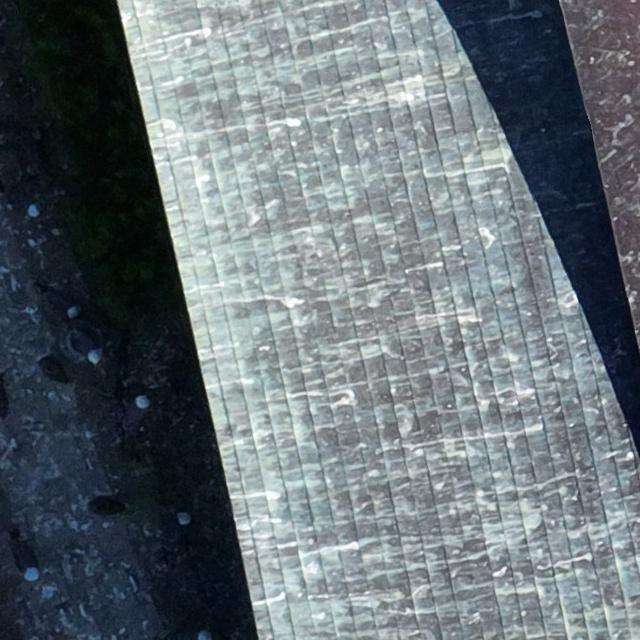umineko: (46, 287, 81, 324), (72, 329, 100, 361), (17, 542, 39, 580), (16, 191, 42, 221), (127, 394, 148, 430), (175, 514, 191, 548)
